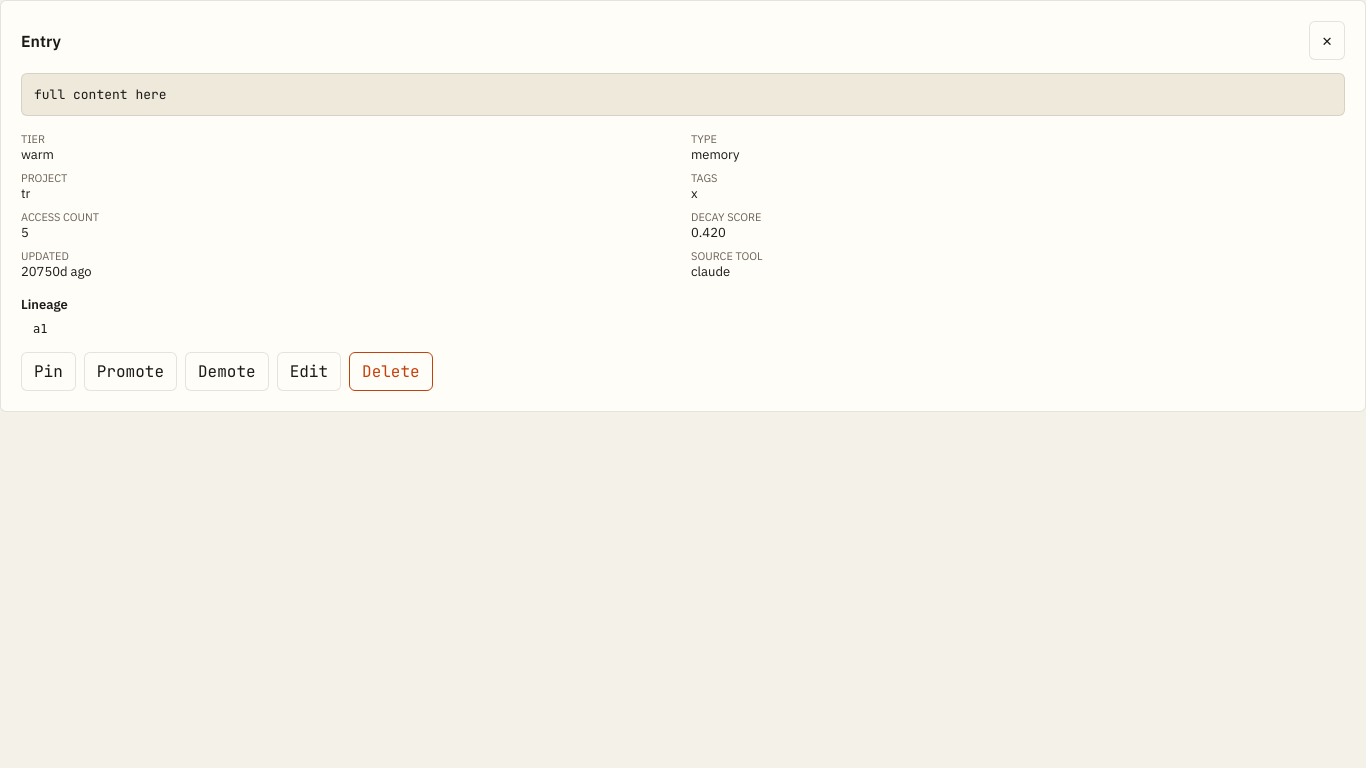
Test case: MemoryDetail › shows OperationProgress and disables Save while memory_update is in-flight
Expected: the text "full content here" is shown, [21,73,1345,116]
Click the button "Edit". click: (309, 372)
box: [277,352,341,391]
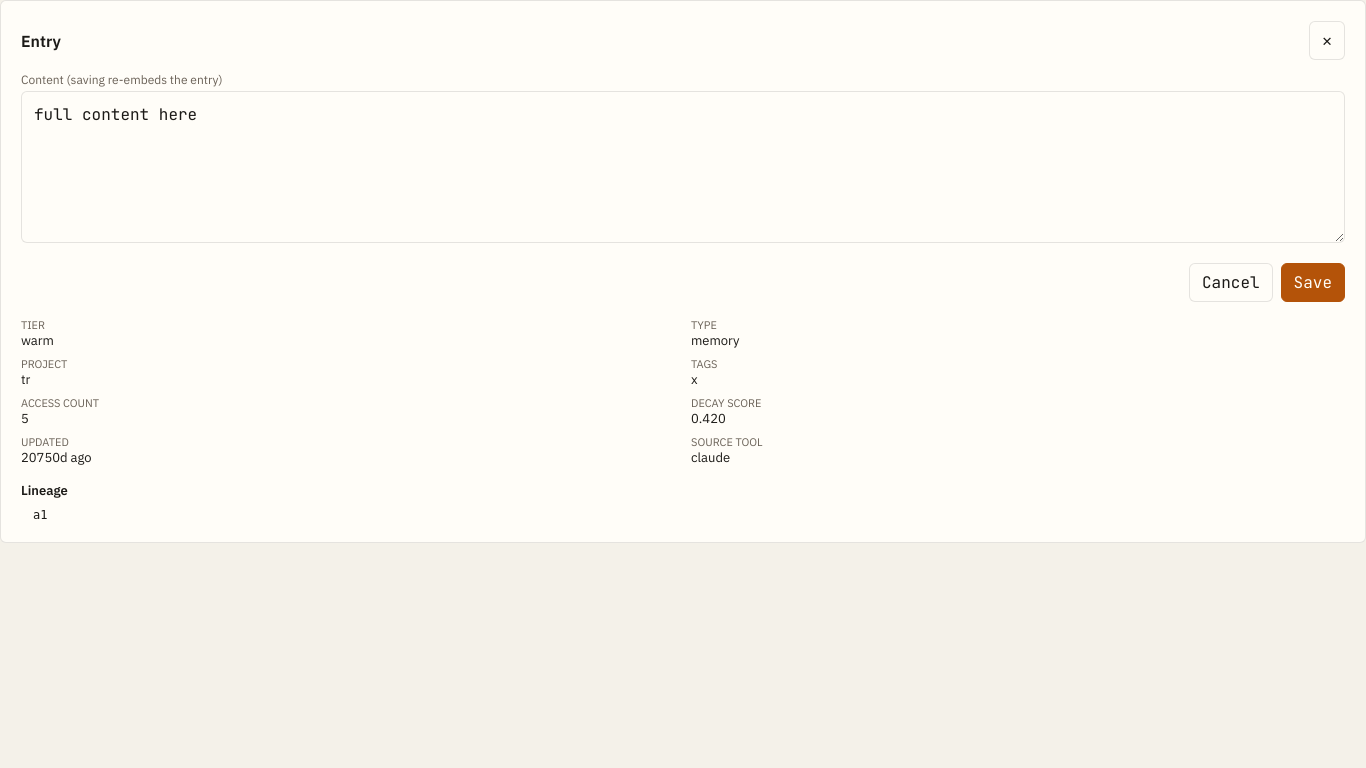
Submit the form "Content (saving re-embeds the entry) Cancel Save", box [21,72,1345,302]
Wait 3000 ms
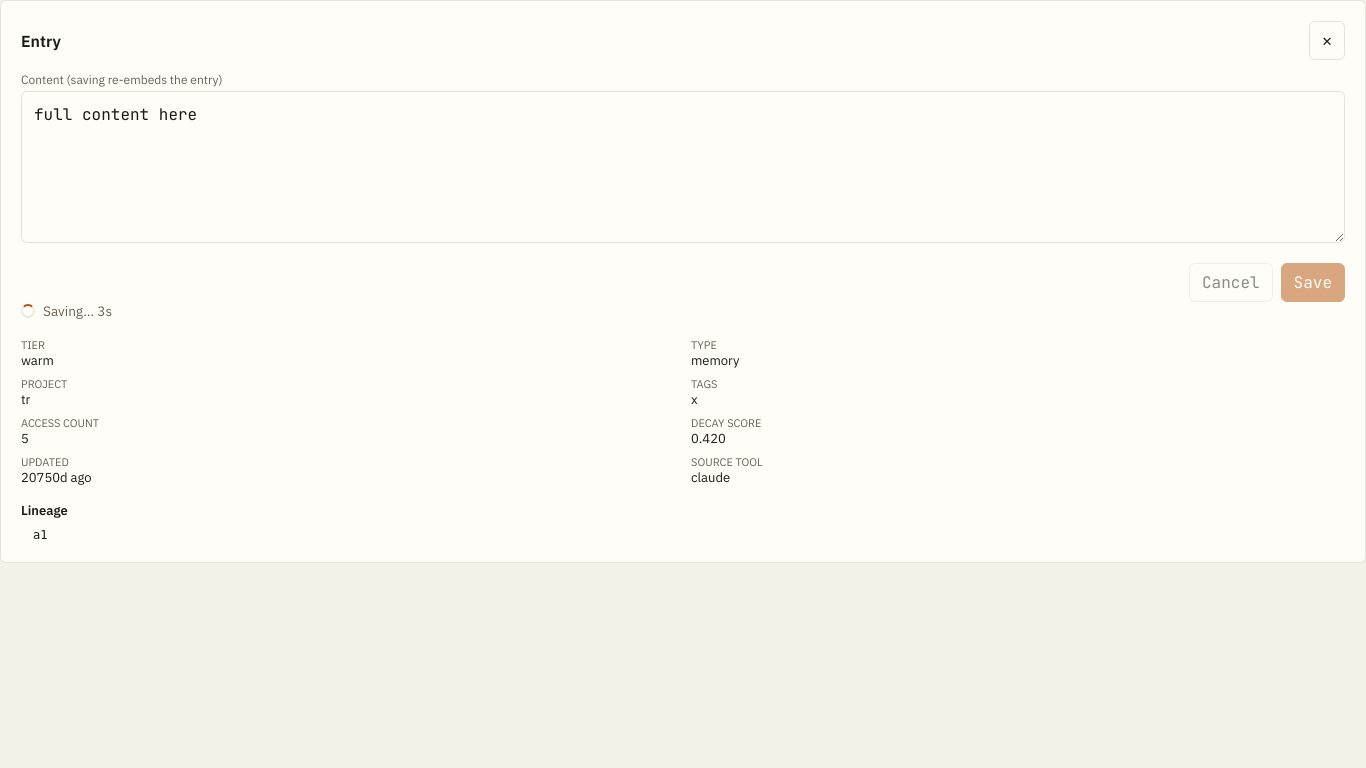
Expected: the message reads "Saving… 3s", [21,302,112,320]
Expected: the button "Save" is disabled, [1281,263,1345,302]
